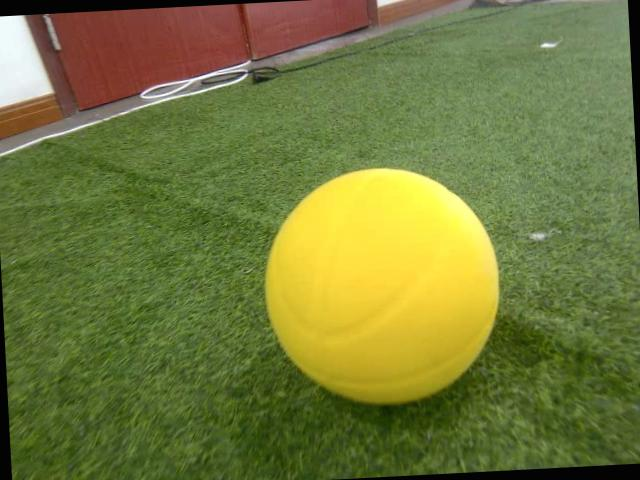yellow_ball: (256, 161, 506, 416)
